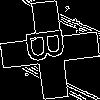B: (25, 25, 75, 64)
